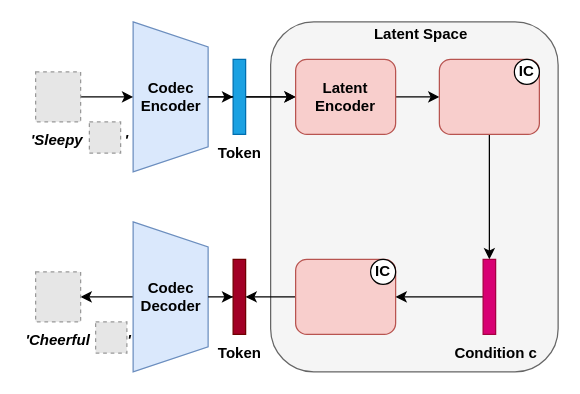
The diagram is 580 pixels wide and 394 high, and some of its shapes have lost their labels. Grey dashed boxes stand in for pictures. The box of each missing label's shape, as (x1, y1, x2, y2) in pixels:
SoundStorm: (294, 258, 396, 334)
Variance Adaptor: (438, 58, 539, 134)
